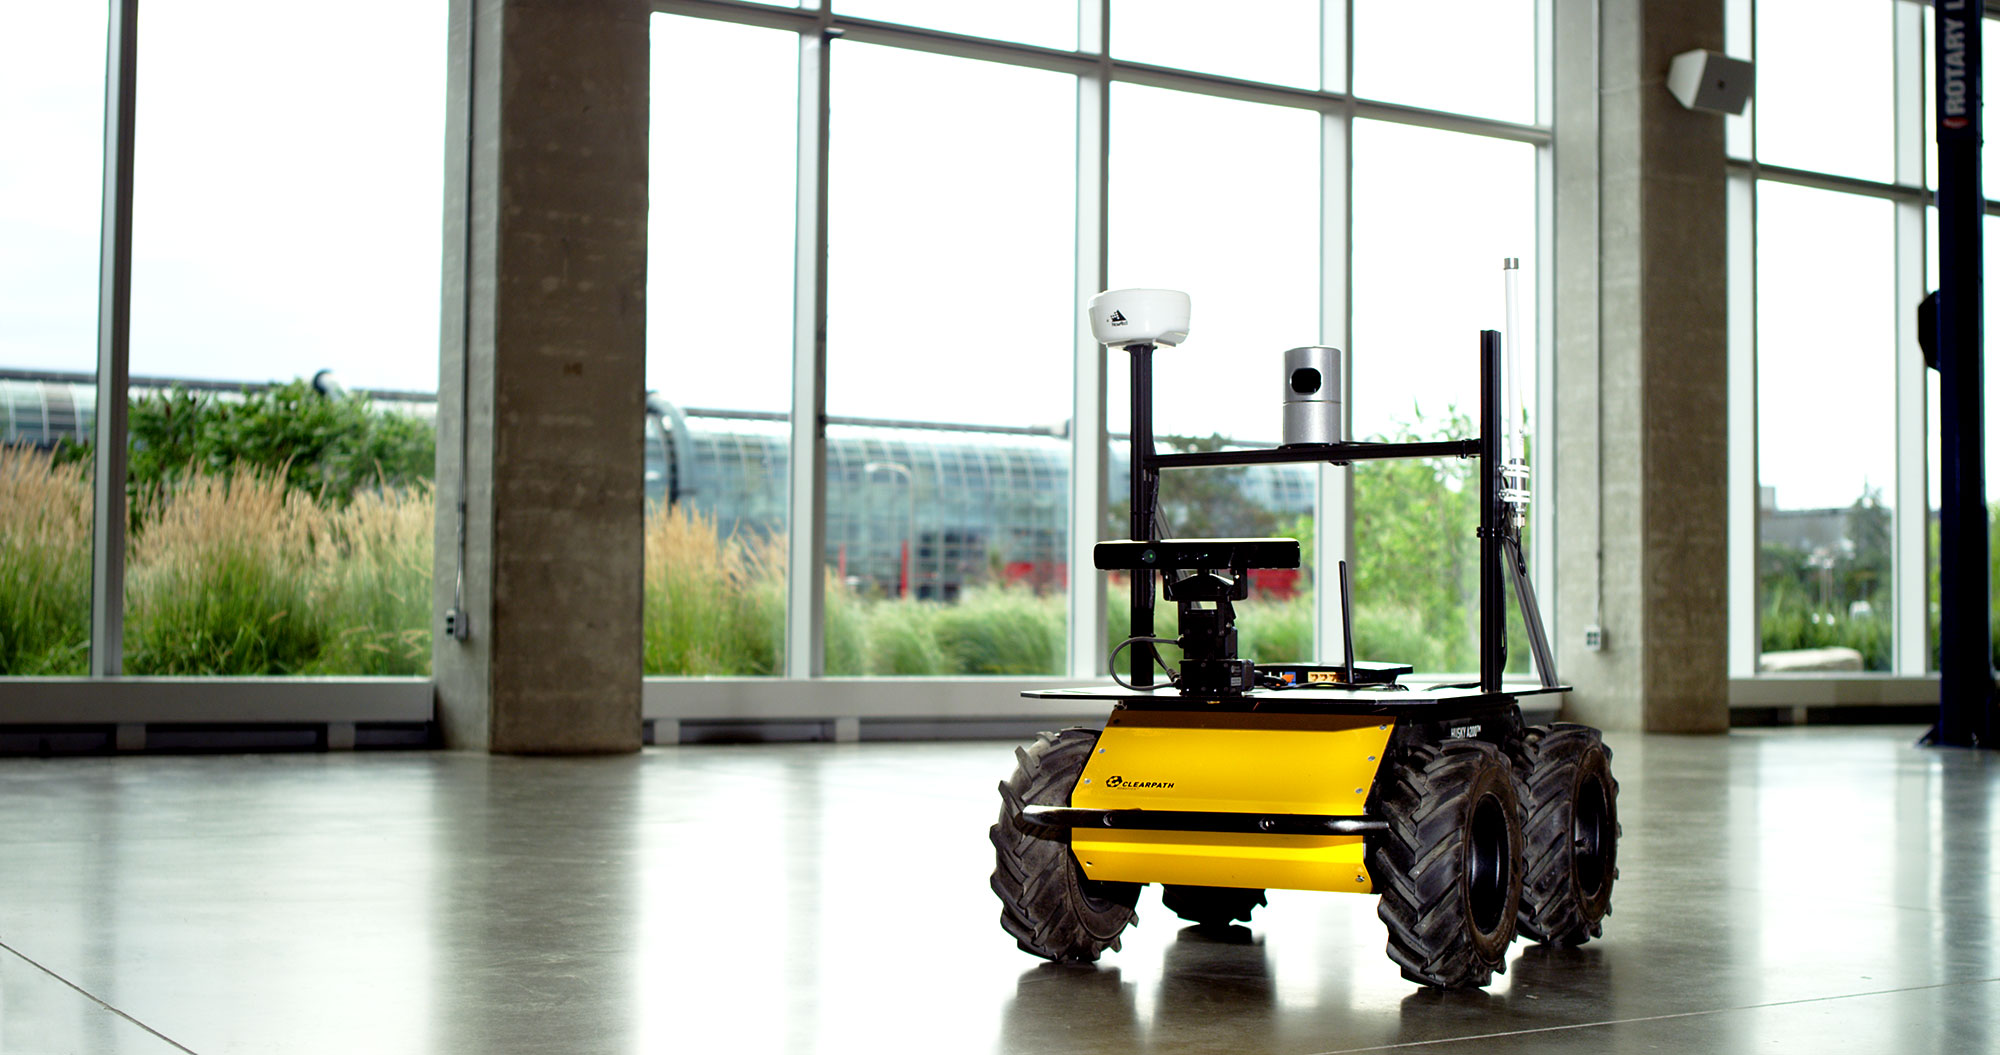husky: (987, 255, 1625, 996)
